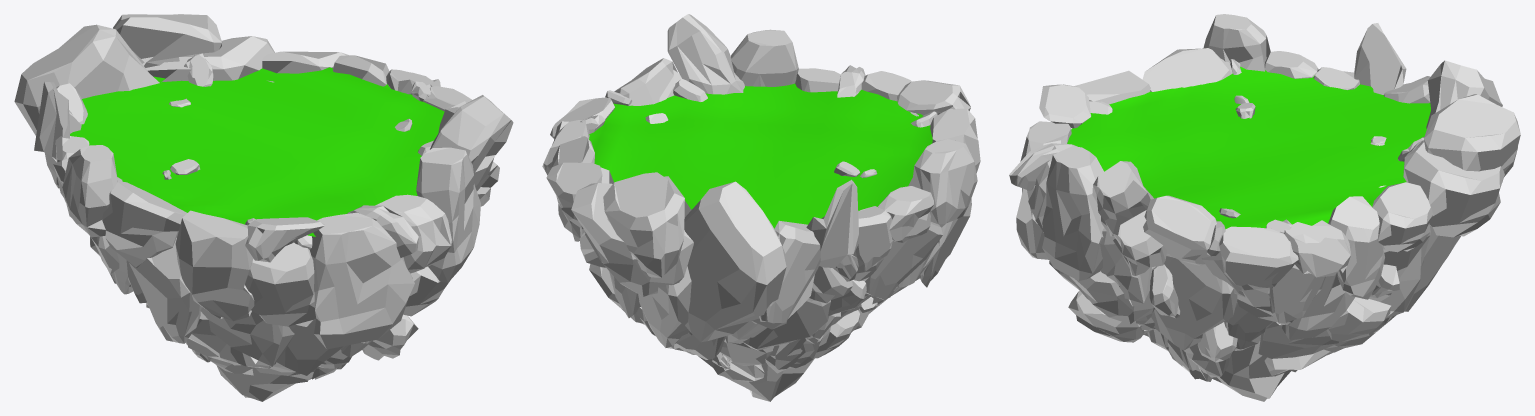
Rendered from Islandia.fbx.
3 views of the same model, side by side, from view 1: azimuth 30°, elevation 25°; view 2: azimuth 150°, elevation 25°; view 3: azimuth 270°, elevation 25° (orthographic). The views are drawn at different scales.
Parts seen in each view (by area): view 1: Cube.015, Sphere; view 2: Cube.015, Sphere; view 3: Cube.015, Sphere.
Part boxes in pixels (x1,y1,x2,y2): Cube.015: (14,14,513,401); Sphere: (70,67,444,236); Cube.015: (542,14,980,401); Sphere: (589,83,932,228); Cube.015: (1009,14,1520,401); Sphere: (1067,66,1430,229).
Bounding box in the file's own units: 3431 × 2510 × 3756.
